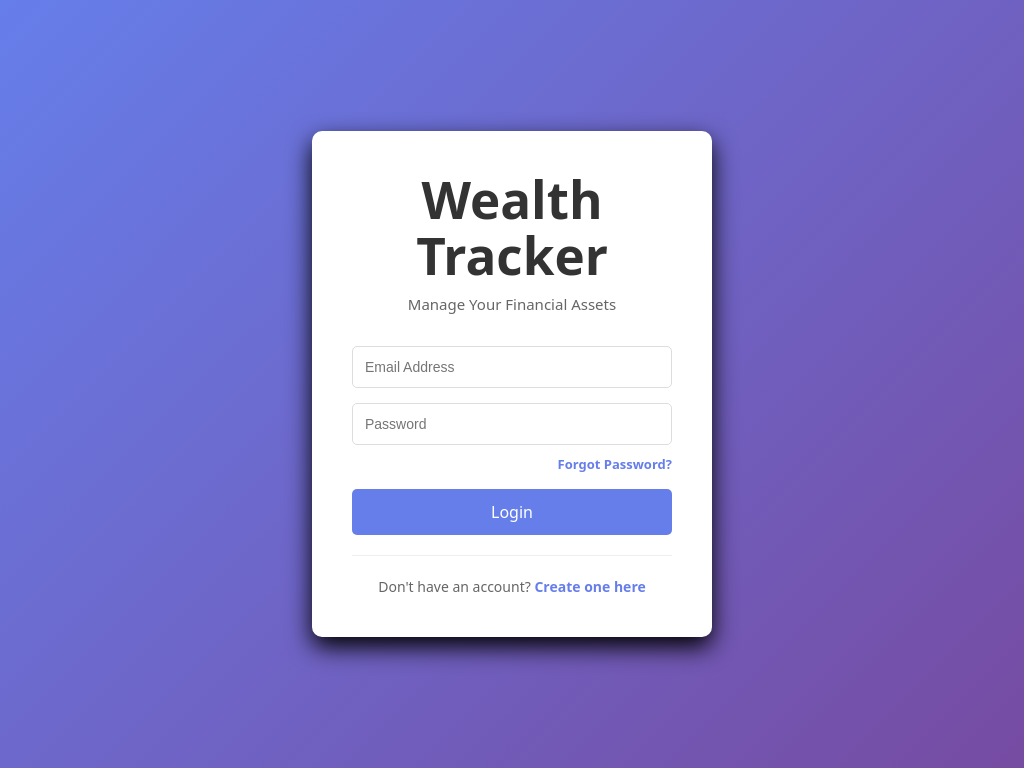
Test case: LoginPage › should clear error when user starts typing
The image size is (1024, 768).
# Fill in some data first (required fields)
Step 1. Type "test@example.com" into the field with placeholder "Email Address" → coordinates (512, 367), box [352, 346, 672, 388]
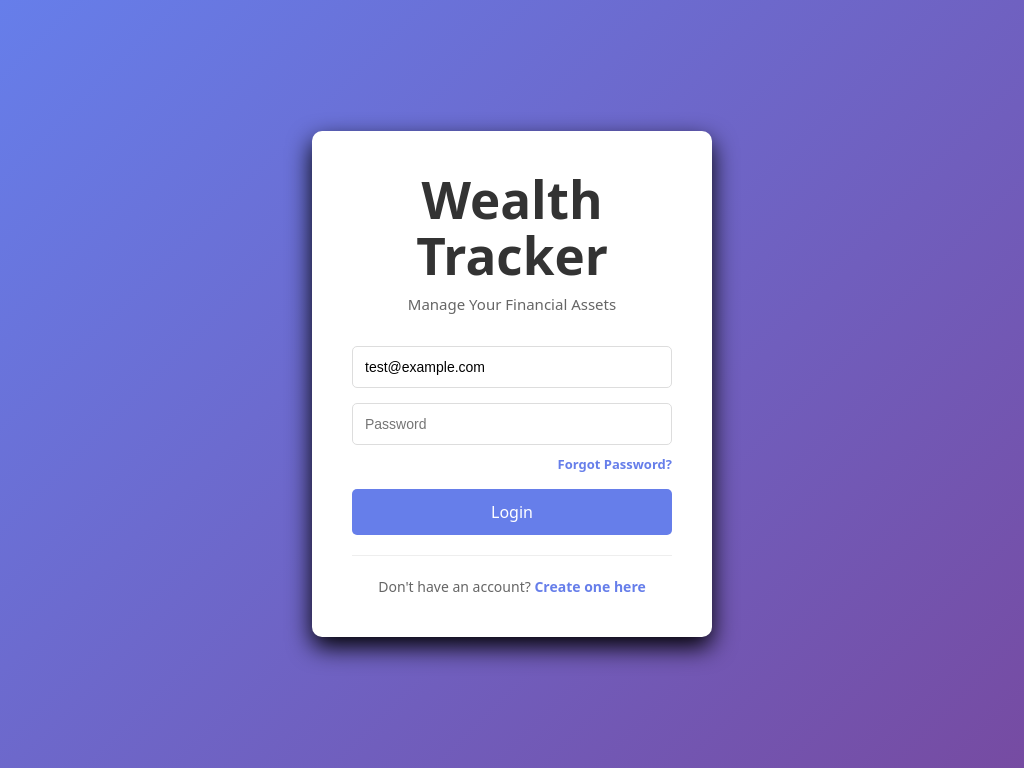
Step 2. Type "wrongpassword" into the password field with placeholder "Password" → coordinates (512, 424), box [352, 403, 672, 445]
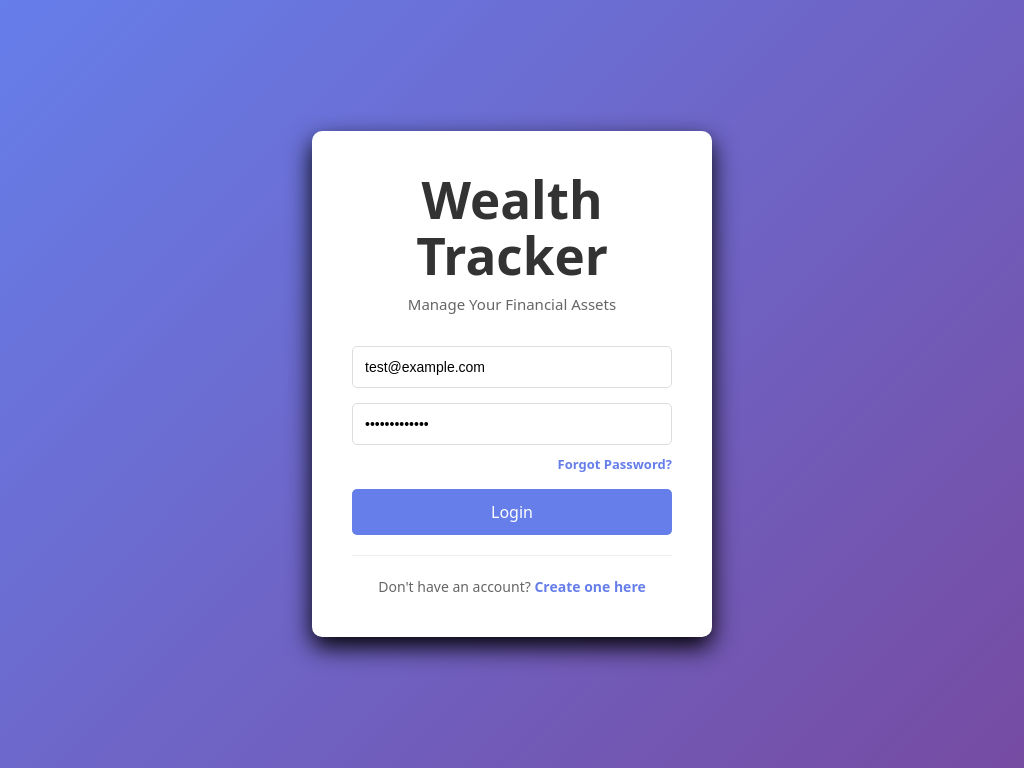
# Trigger error
Step 3. Click the button "Login" → coordinates (512, 512), box [352, 489, 672, 535]
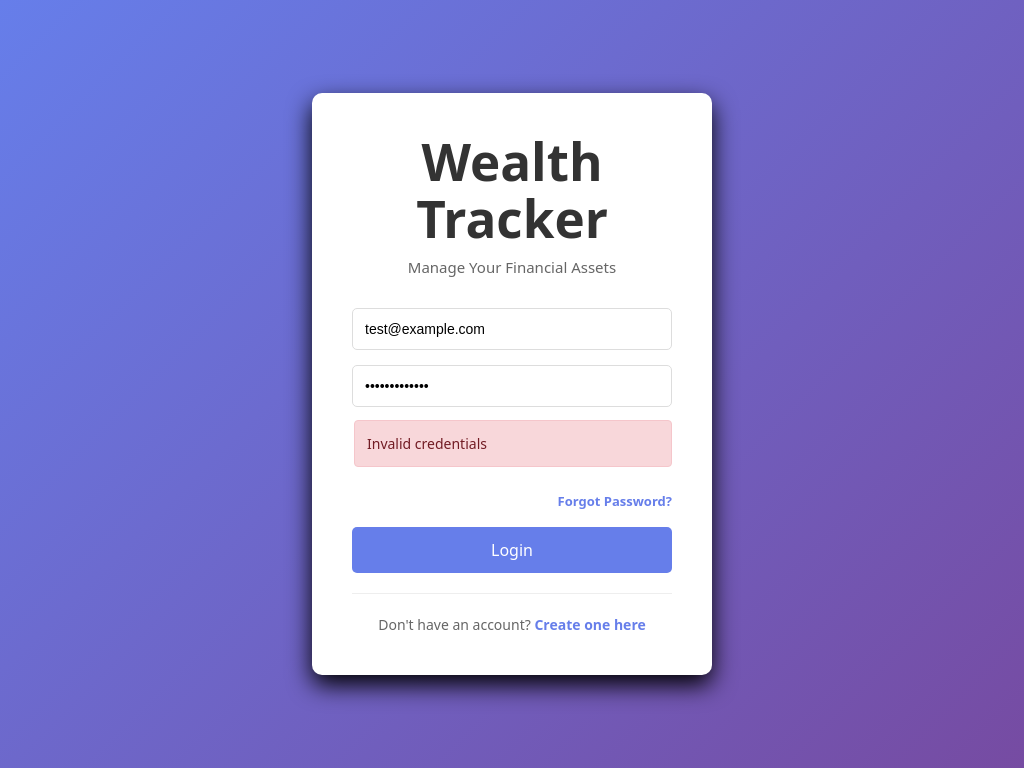
Result: the text "Invalid credentials" is shown at [354, 420, 672, 467]
# Start typing - error should clear
Step 4. Replace the text in the field with placeholder "Email Address" with "new@example.com" → coordinates (512, 329), box [352, 308, 672, 350]
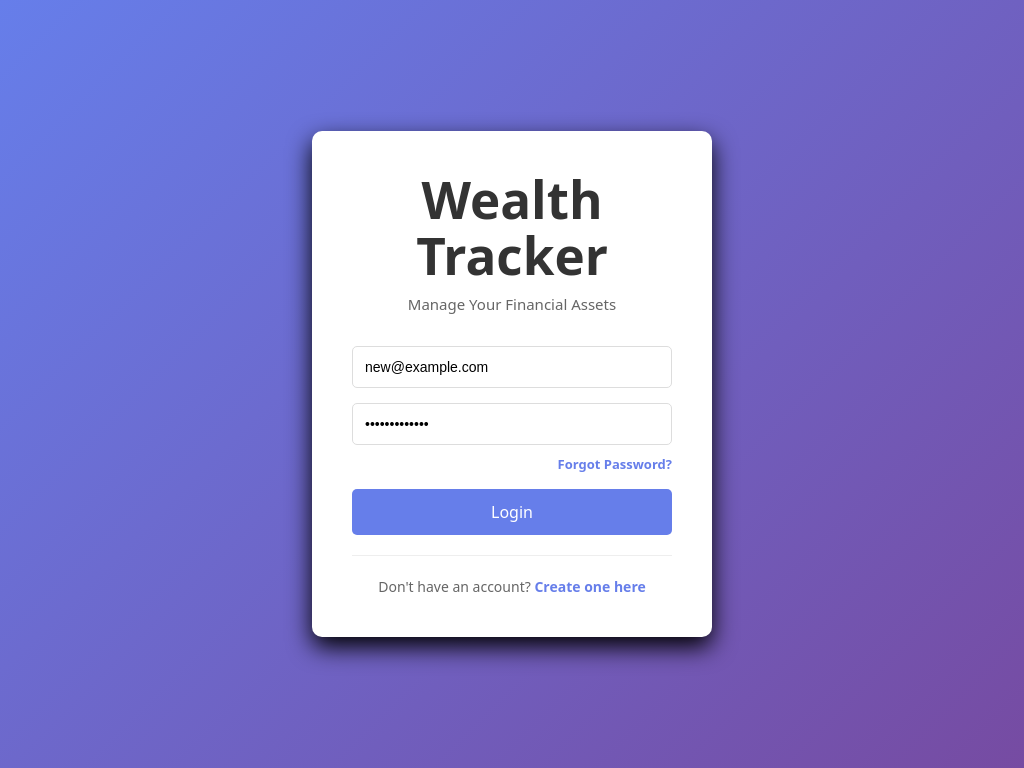
Result: the text "Invalid credentials" is gone
